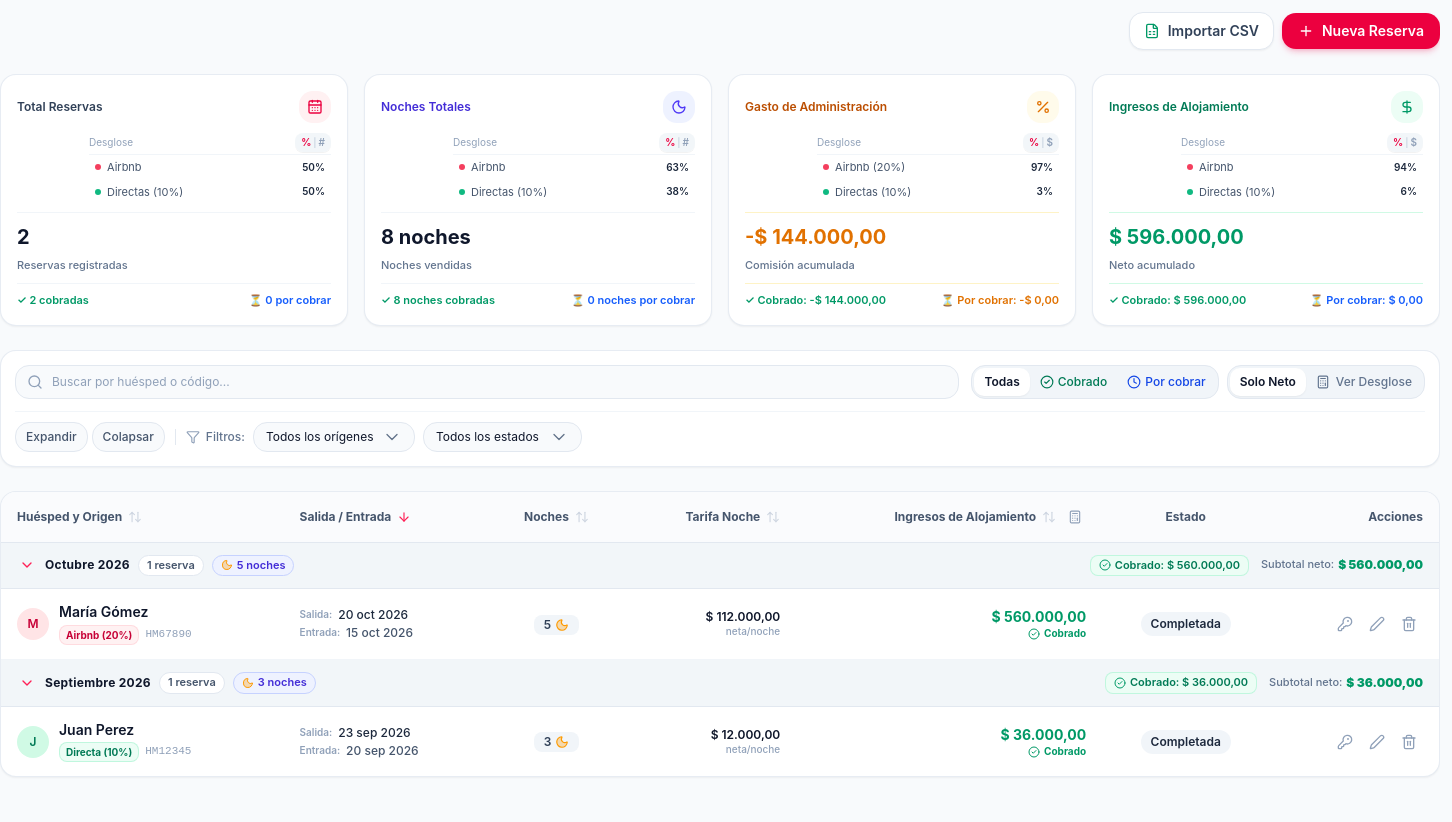
Bookings Route - Revenue Breakdown and Toggle › Month Grouping and Collapsing in Bookings › collapses and expands all months using quick action buttons
The image size is (1452, 822).
Click "Colapsar"
Click the button "Colapsar" at coordinates (128, 436), box [92,422,165,452]
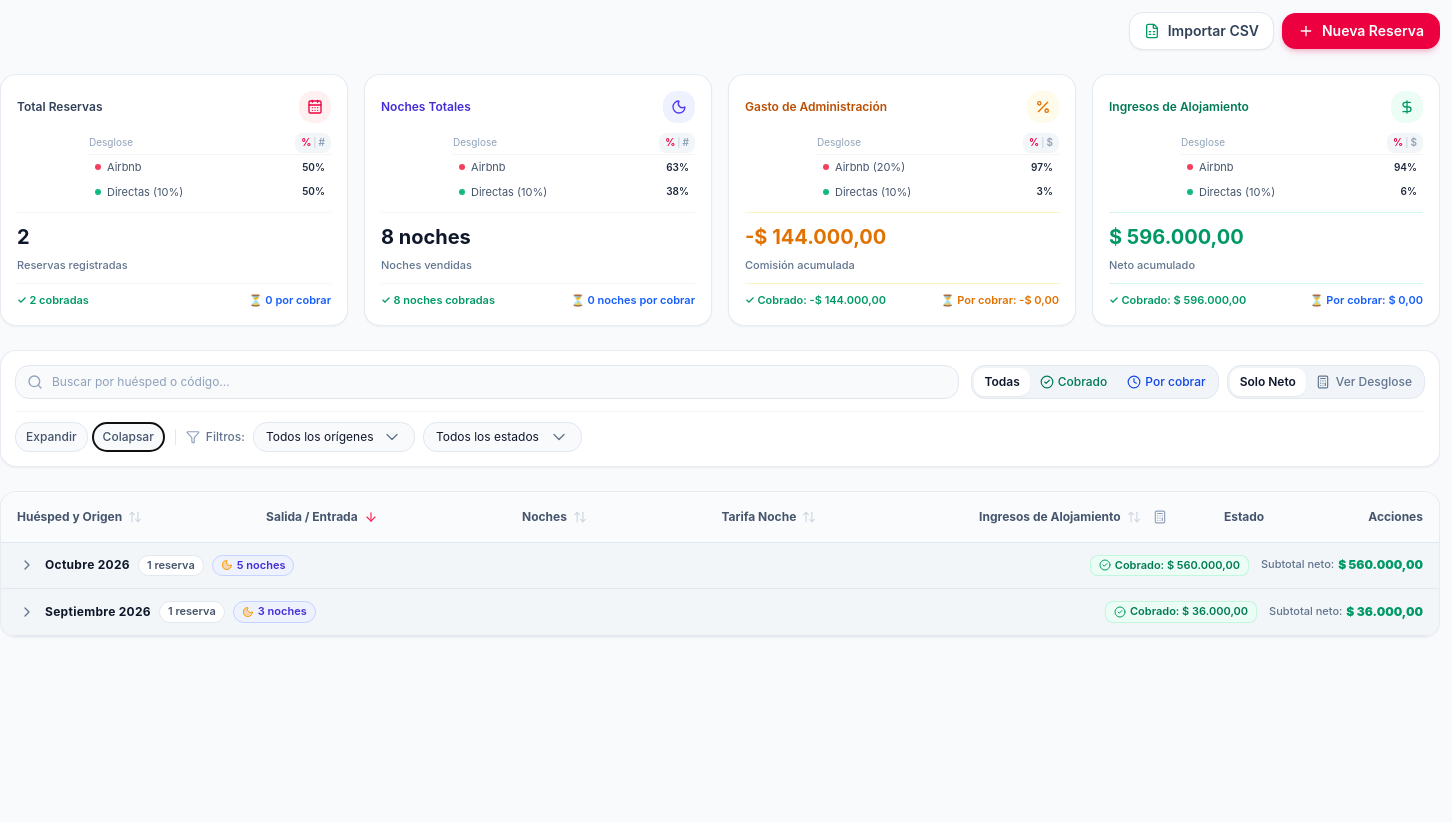
Now no rows with test id "booking-row" are shown
Click "Expandir"
Click the button "Expandir" at coordinates (51, 436), box [15,422,88,452]
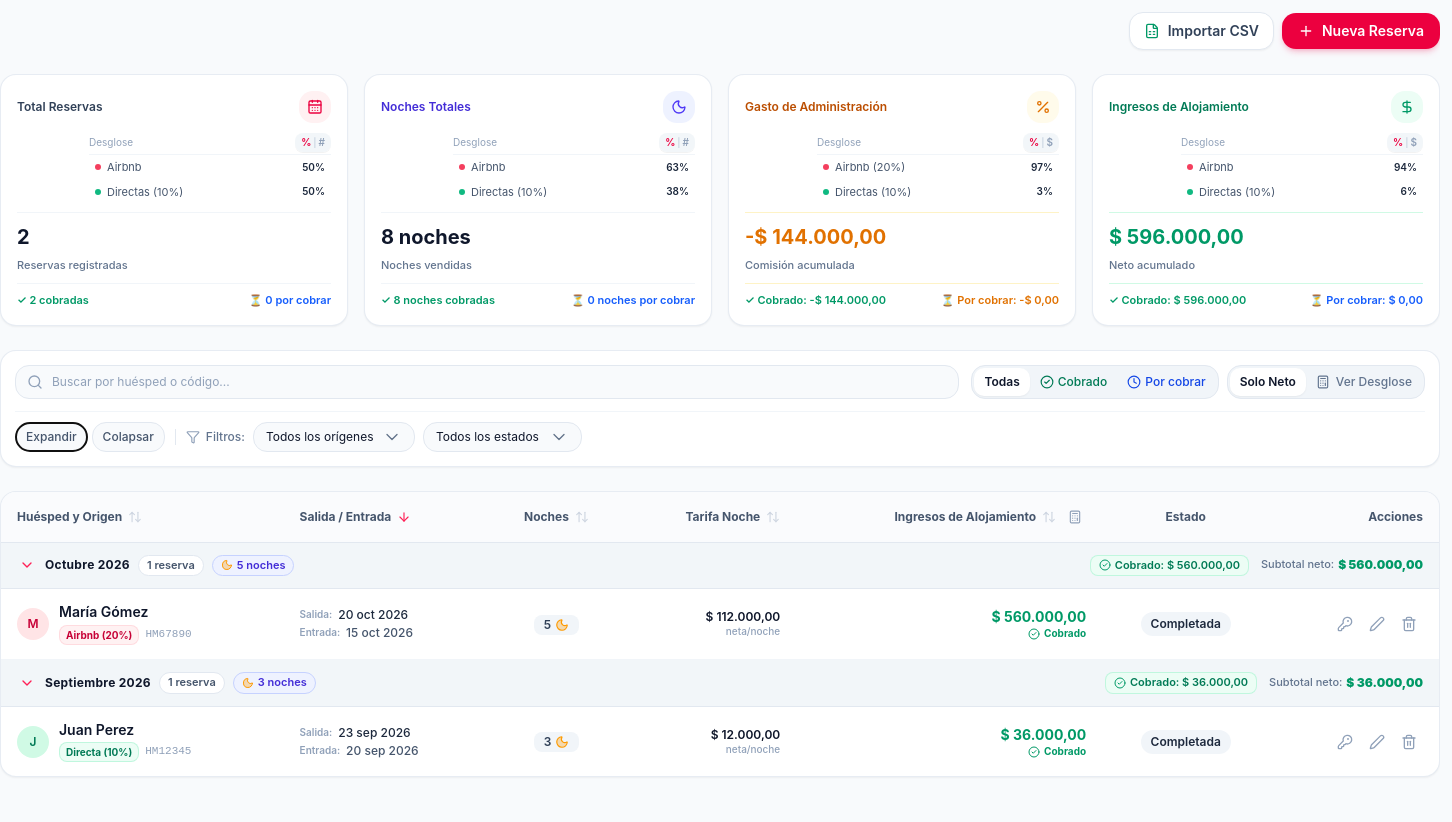
Now the number of rows with test id "booking-row" is 2, box [1,589,1439,660]; [1,706,1439,776]
